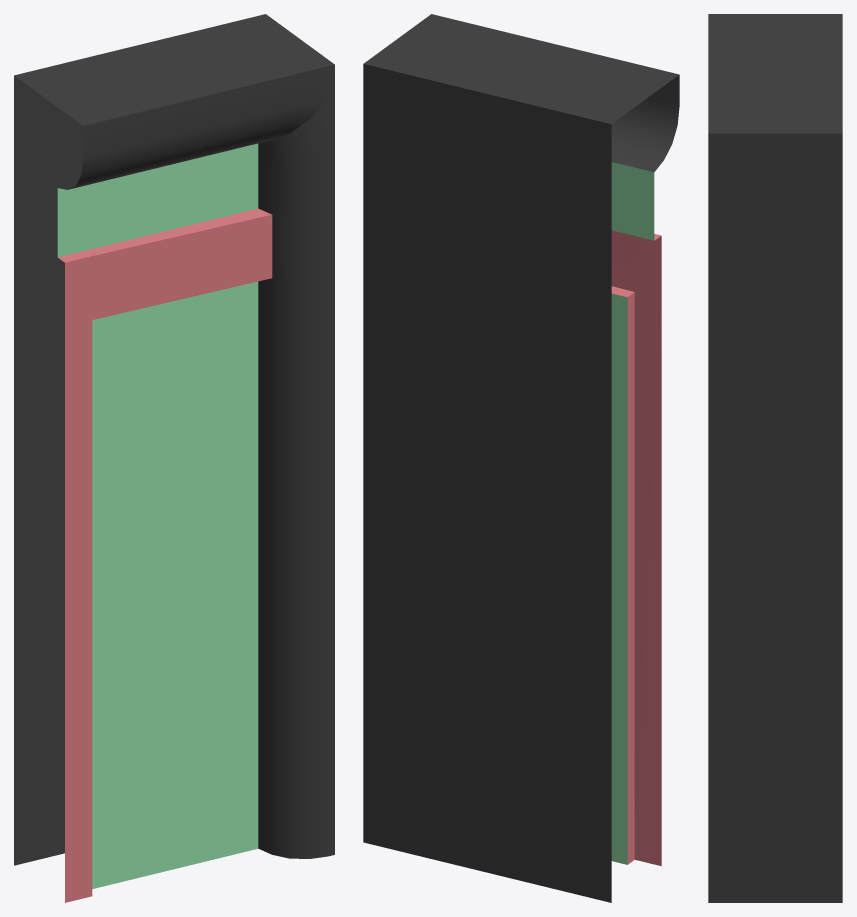
Rendered from ShipWallEnd2.fbx.
3 views of the same model, side by side, from view 1: azimuth 30°, elevation 25°; view 2: azimuth 150°, elevation 25°; view 3: azimuth 270°, elevation 25° (orthographic). The views are drawn at different scales.
Parts seen in each view (by area): view 1: WallEnd2; view 2: WallEnd2; view 3: WallEnd2.
Boxes of the visible parts, bbox=[...] form: WallEnd2: bbox=[14, 14, 334, 902]; WallEnd2: bbox=[363, 14, 679, 902]; WallEnd2: bbox=[708, 14, 842, 902].
Size of the model in its own units: 1 by 3 by 0.475.
